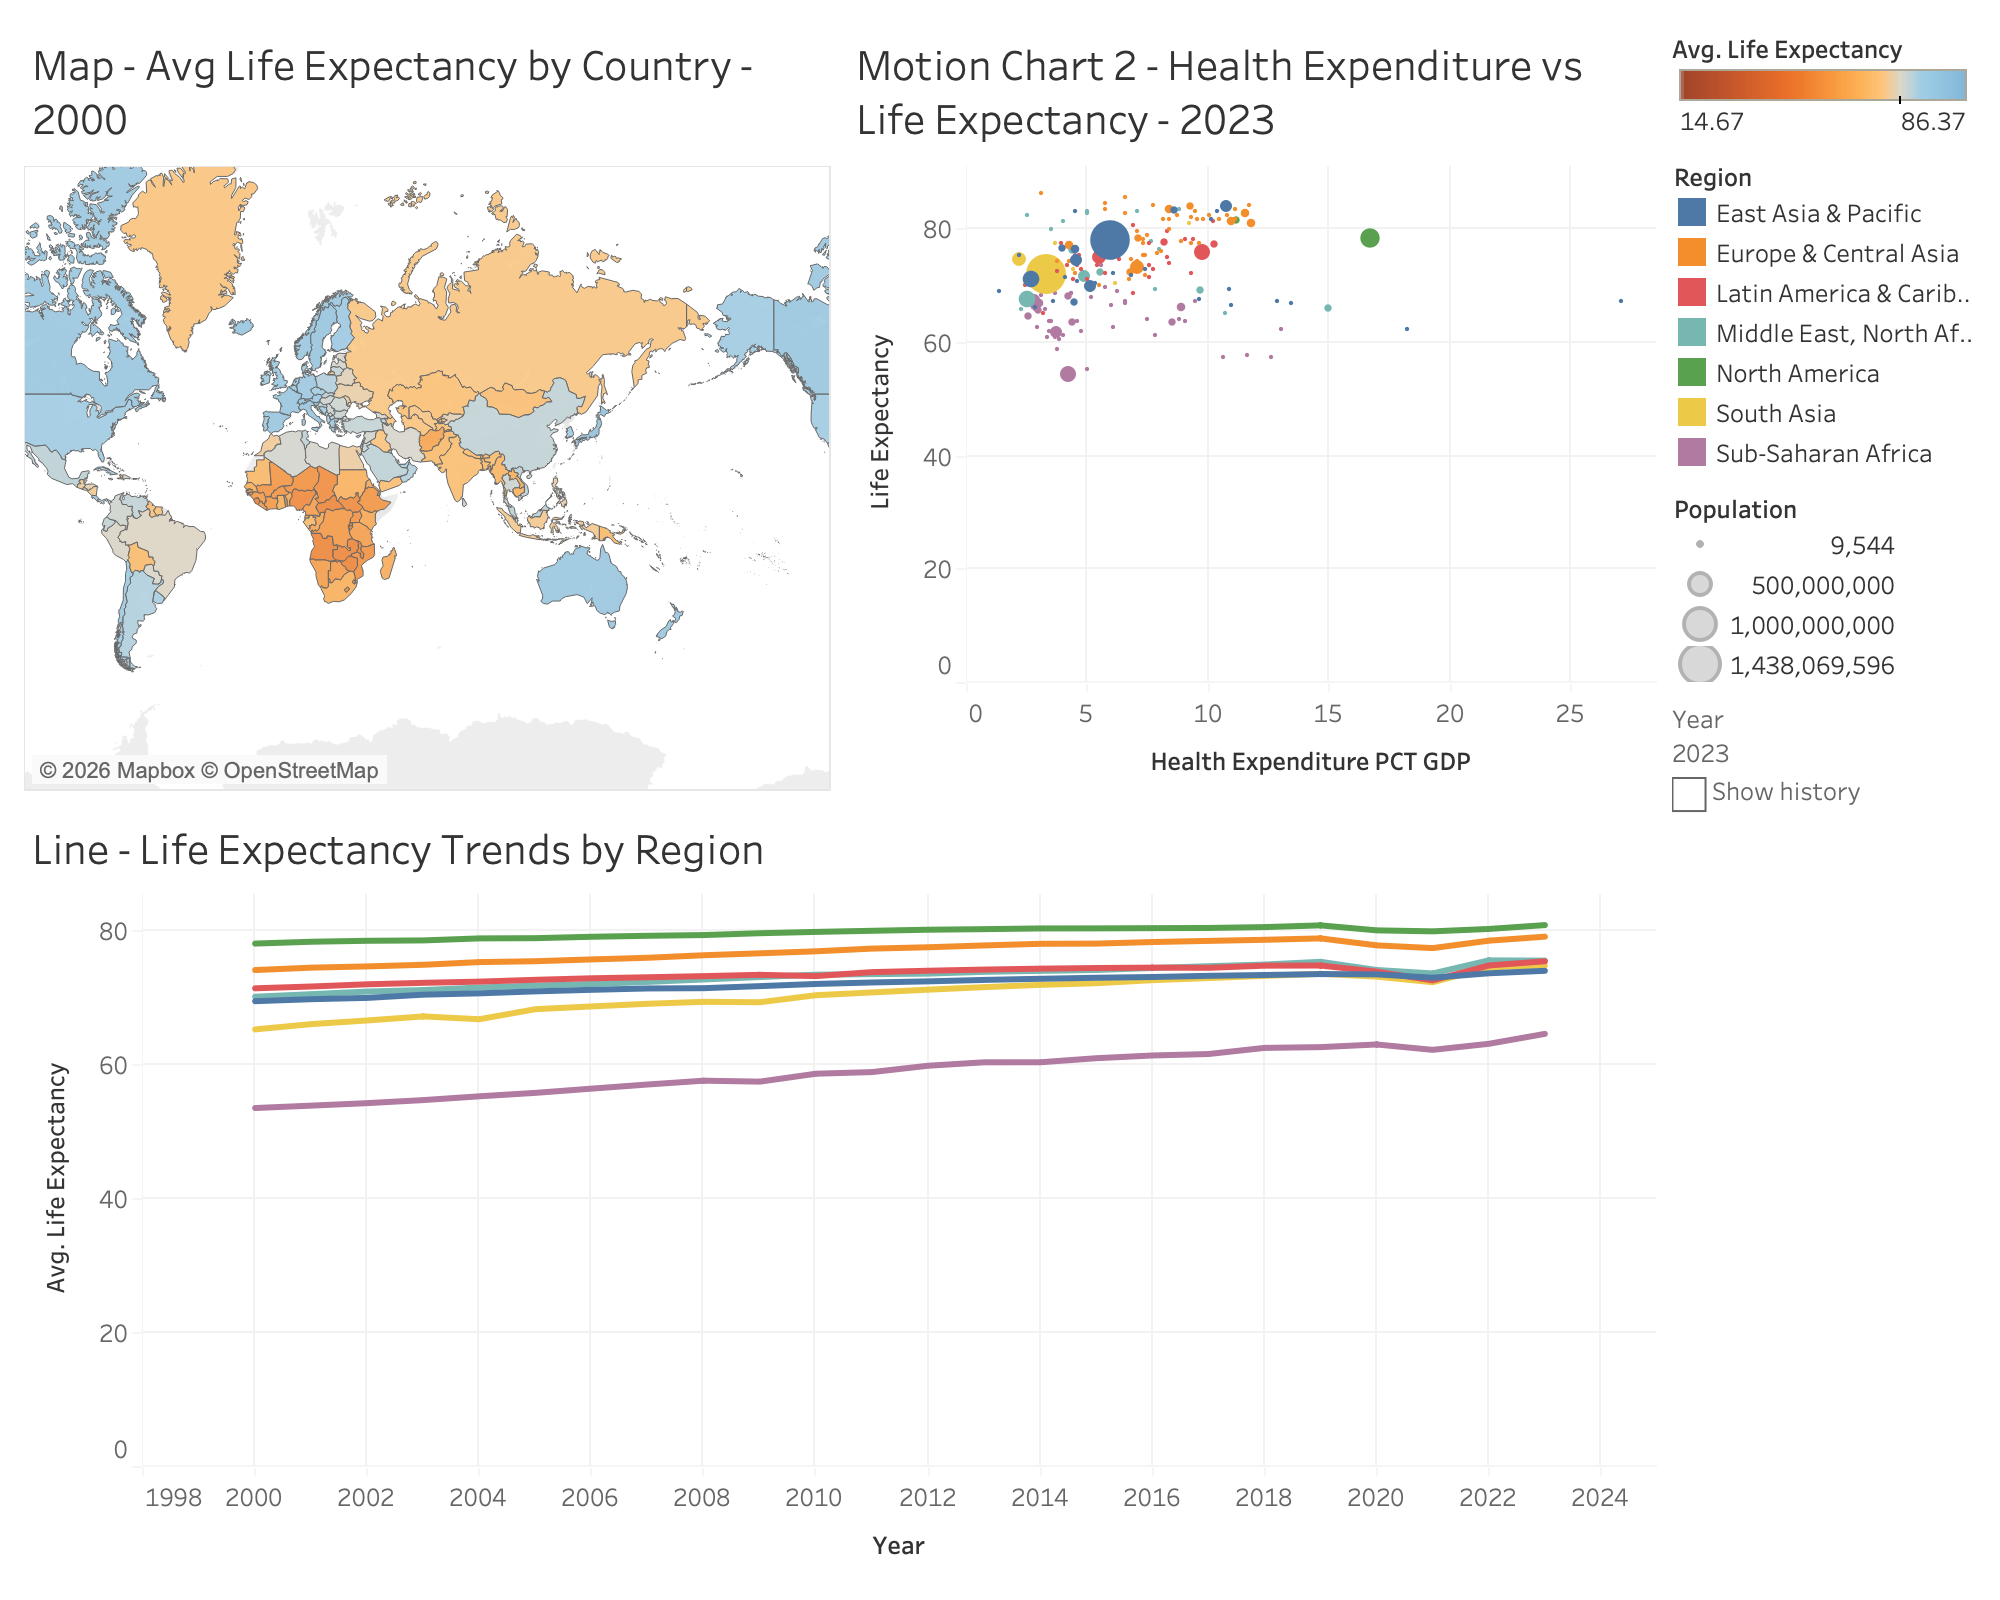

What the dashboard file says about the page in this screenshot:
{"tool":"tableau","page":{"name":"Dashboard 2","canvas":[1000,800],"ordinal":1},"visuals":[{"type":"worksheet","title":"Map - Avg Life Expectancy by Country","mark":"Multipolygon","box":[8,8,412,392]},{"type":"worksheet","title":"Motion Chart 2 - Health Expenditure vs Life Expectancy","mark":"Circle","rows":["Life_Expectancy"],"cols":["Health_Expenditure_PCT_GDP"],"box":[420,8,412,392]},{"type":"legend","title":"Map - Avg Life Expectancy by Country","param":"[federated.19kyulr14r0xhh16j22p60c82e8s].[avg:Life_Expectancy:qk]","box":[832,8,160,65]},{"type":"legend","title":"Line - Life Expectancy Trends by Region","param":"[federated.19kyulr14r0xhh16j22p60c82e8s].[none:Region:nk]","box":[832,73,160,166]},{"type":"legend","title":"Motion Chart 2 - Health Expenditure vs Life Expectancy","param":"[federated.19kyulr14r0xhh16j22p60c82e8s].[sum:Population:qk]","box":[832,239,160,106]},{"type":"currpage","title":"Motion Chart 2 - Health Expenditure vs Life Expectancy","box":[832,345,160,110]},{"type":"worksheet","title":"Line - Life Expectancy Trends by Region","mark":"Line","rows":["Life_Expectancy"],"cols":["Year"],"box":[8,400,824,392]}]}

Visuals, with their boxes in screenshot pixels (x1, y1, x2, y2), scaled from the page's 1000x800 canvas onto the 2000x1600 screenshot:
"Map - Avg Life Expectancy by Country" worksheet (Multipolygon marks): [left=16, top=16, right=840, bottom=800]
"Motion Chart 2 - Health Expenditure vs Life Expectancy" worksheet (Circle marks): [left=840, top=16, right=1664, bottom=800]
"Map - Avg Life Expectancy by Country" legend: [left=1664, top=16, right=1984, bottom=146]
"Line - Life Expectancy Trends by Region" legend: [left=1664, top=146, right=1984, bottom=478]
"Motion Chart 2 - Health Expenditure vs Life Expectancy" legend: [left=1664, top=478, right=1984, bottom=690]
"Motion Chart 2 - Health Expenditure vs Life Expectancy" currpage: [left=1664, top=690, right=1984, bottom=910]
"Line - Life Expectancy Trends by Region" worksheet (Line marks): [left=16, top=800, right=1664, bottom=1584]
